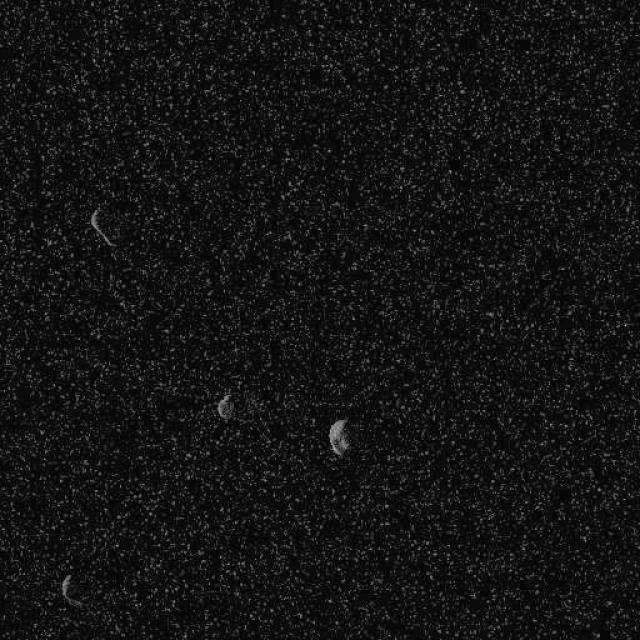D2: (89, 206, 116, 248), (60, 572, 86, 608), (328, 417, 350, 458), (215, 394, 234, 420)
